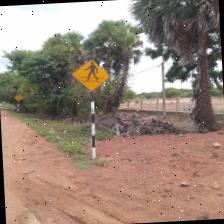yellowboard: (70, 58, 110, 92)
